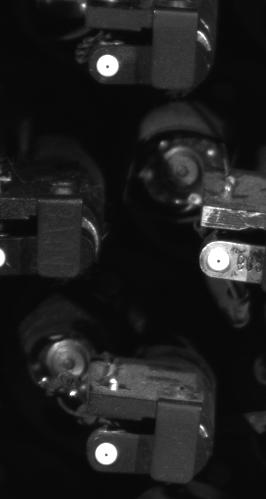fiber: (91, 49, 124, 81), (90, 439, 124, 469), (202, 245, 235, 274)
